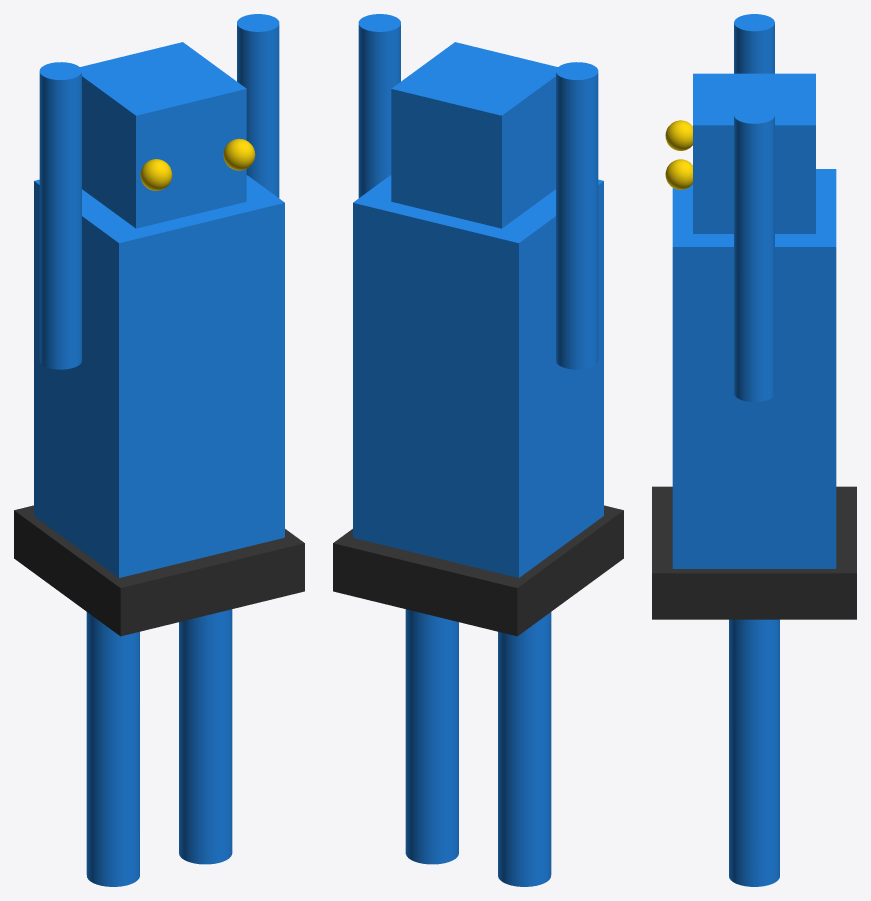
3 views of the same model, side by side, from view 1: azimuth 30°, elevation 25°; view 2: azimuth 150°, elevation 25°; view 3: azimuth 270°, elevation 25° (orthographic). The views are drawn at different scales.
Parts seen in each view (by area): view 1: torso, head, base, leg_left, leg_right, arm_left, arm_right, eye_right, eye_left; view 2: torso, head, base, leg_left, leg_right, arm_left, arm_right; view 3: torso, head, base, leg_right, arm_right, arm_left, eye_right, eye_left.
Boxes of the visible parts, x1,y1,x2,y2 form: torso: [34, 175, 284, 577]; head: [80, 42, 246, 228]; base: [14, 505, 304, 636]; leg_left: [86, 612, 139, 886]; leg_right: [179, 609, 232, 864]; arm_left: [39, 62, 81, 369]; arm_right: [237, 14, 279, 197]; eye_right: [223, 138, 255, 170]; eye_left: [140, 159, 172, 190]; torso: [353, 175, 603, 577]; head: [391, 42, 557, 228]; base: [333, 505, 623, 636]; leg_left: [498, 612, 551, 886]; leg_right: [405, 609, 458, 864]; arm_left: [556, 62, 598, 369]; arm_right: [358, 14, 400, 197]; torso: [672, 169, 836, 568]; head: [693, 73, 815, 233]; base: [652, 486, 856, 619]; leg_right: [729, 619, 779, 886]; arm_right: [734, 106, 774, 401]; arm_left: [734, 14, 774, 73]; eye_right: [665, 159, 692, 189]; eye_left: [665, 120, 692, 150].
Size of the model in its own units: 0.254 by 0.847 by 0.2.
